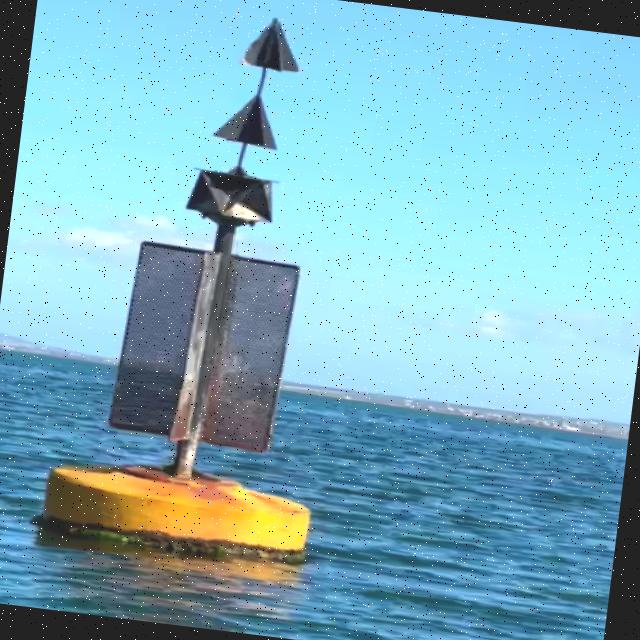marque: (41, 1, 379, 575)
